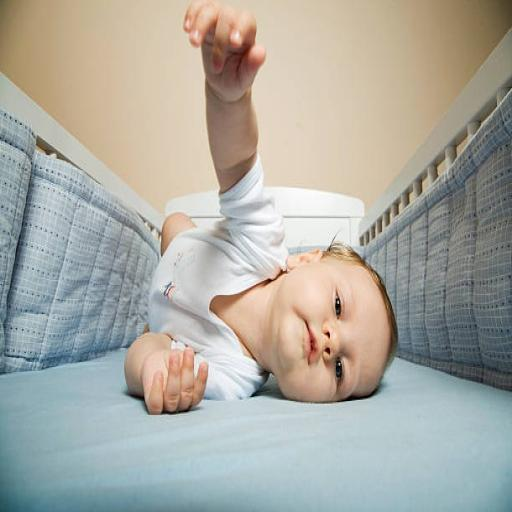baby: (126, 0, 397, 413)
crib: (0, 33, 511, 510)
